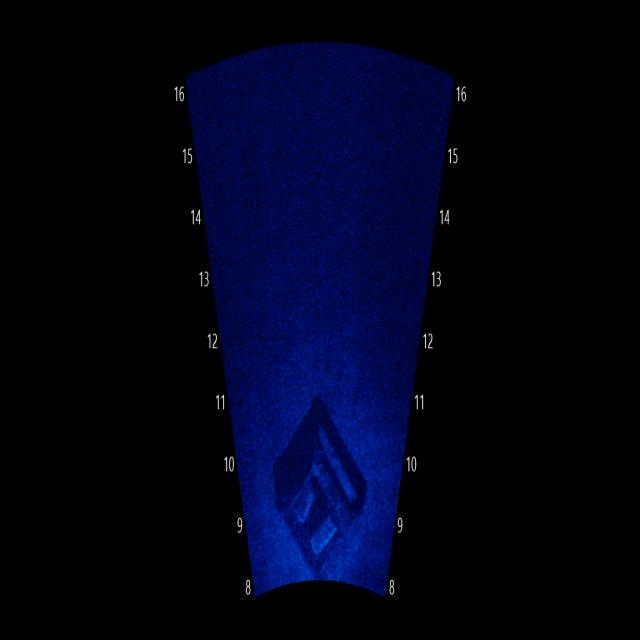square: (270, 378, 377, 579)
